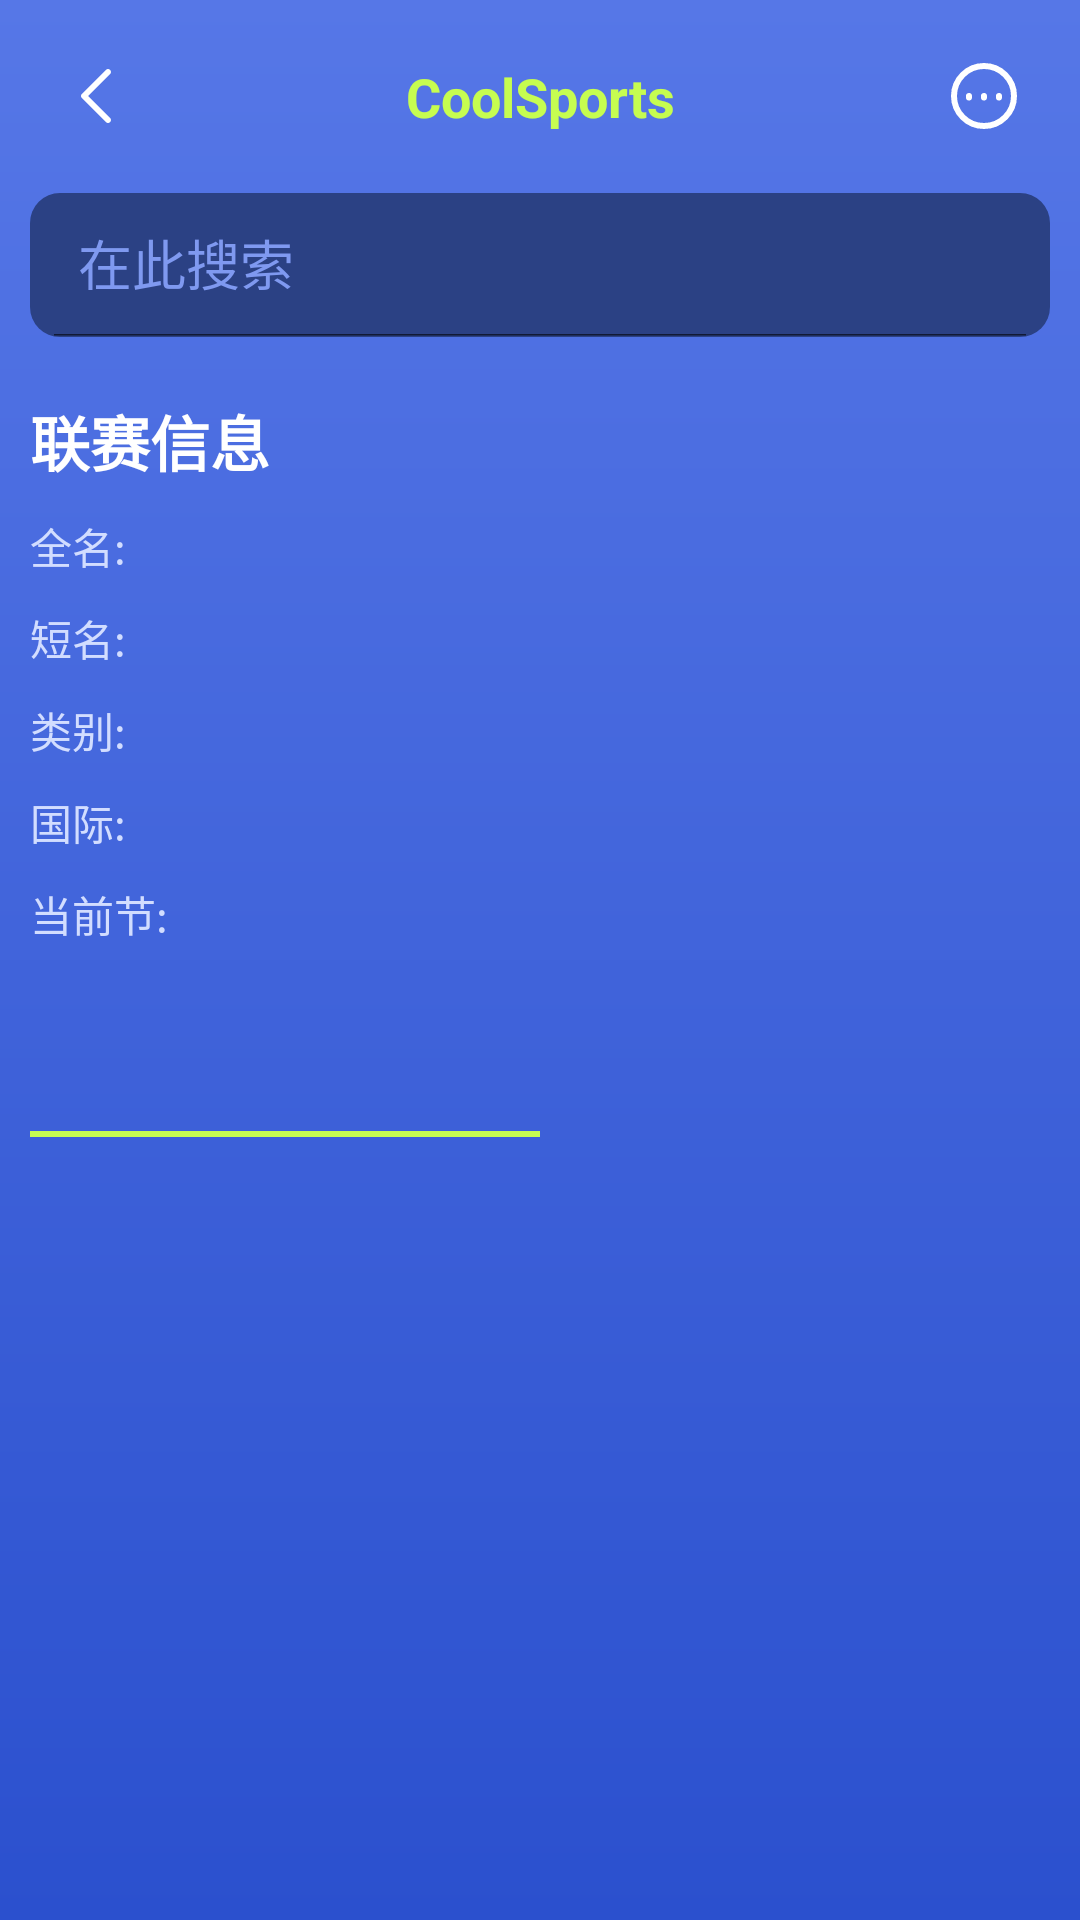

Named icons in this screenshot (1080x1920) and their bounding boxes, (x1, y1, x2, y2):
back: (81, 69, 111, 123)
